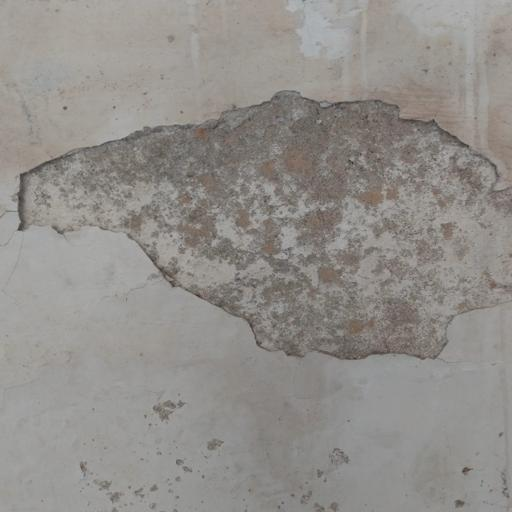peeling: (10, 82, 512, 377)
